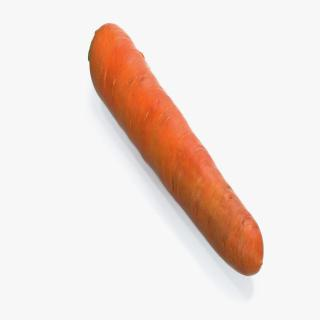carrot: (85, 21, 264, 277)
